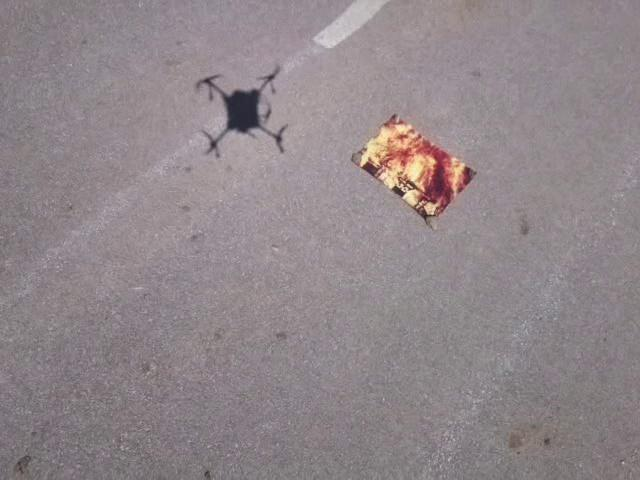fire-poster: (349, 111, 478, 228)
